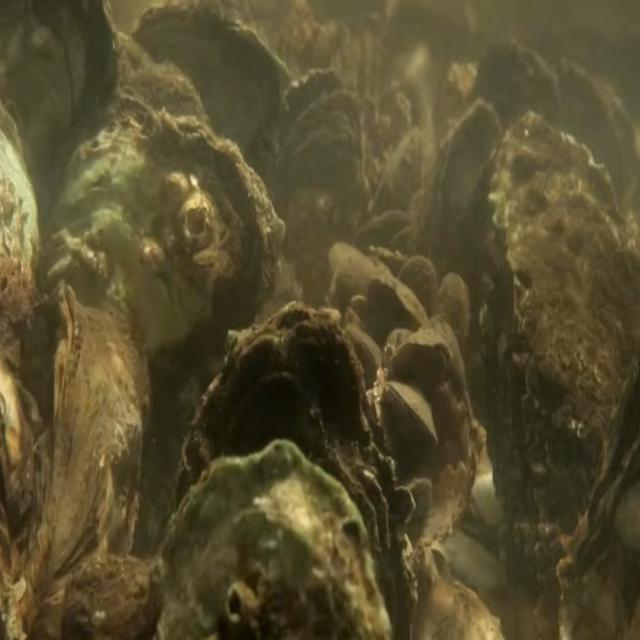Oyster-Closed: (52, 104, 286, 518), (175, 301, 415, 640), (478, 109, 638, 552), (152, 436, 390, 640), (384, 380, 438, 443), (388, 338, 453, 386)
Oyster-Indeterminate: (29, 279, 149, 640), (420, 98, 504, 328), (368, 274, 431, 328), (398, 253, 438, 325), (436, 272, 469, 347)
Oyster-Open: (266, 67, 363, 279)
